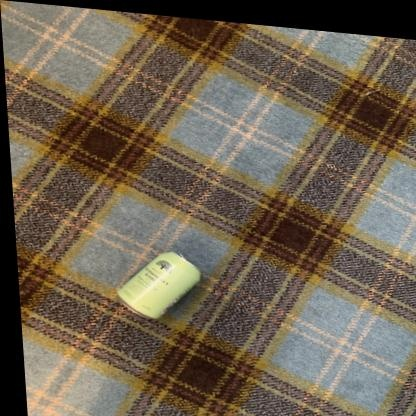trash: (118, 252, 200, 318)
